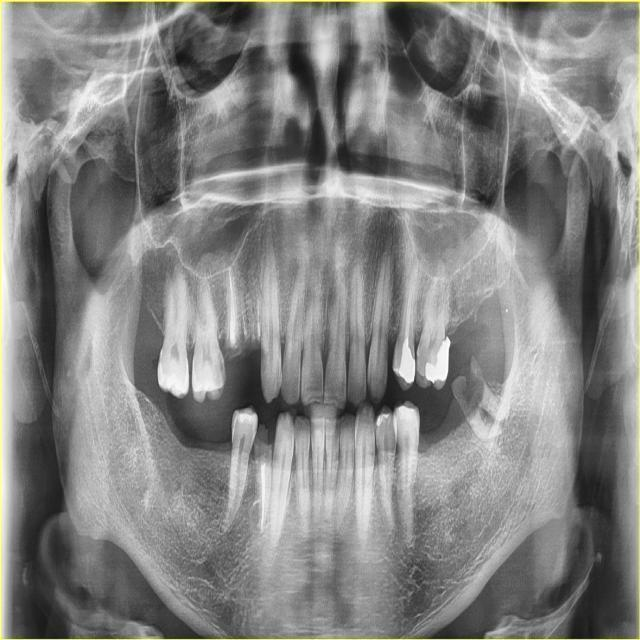Caries: (415, 343, 430, 378), (261, 344, 268, 375)
Filling: (425, 337, 451, 385), (399, 337, 415, 383)
Missing teeth: (166, 399, 234, 458), (418, 386, 464, 454), (448, 315, 484, 370)
Root Canal Treatment: (405, 287, 413, 339)
Root Piece: (452, 374, 502, 442), (466, 355, 512, 421), (251, 427, 273, 534), (224, 265, 244, 359), (249, 258, 262, 341), (238, 277, 249, 344), (246, 291, 258, 350)
